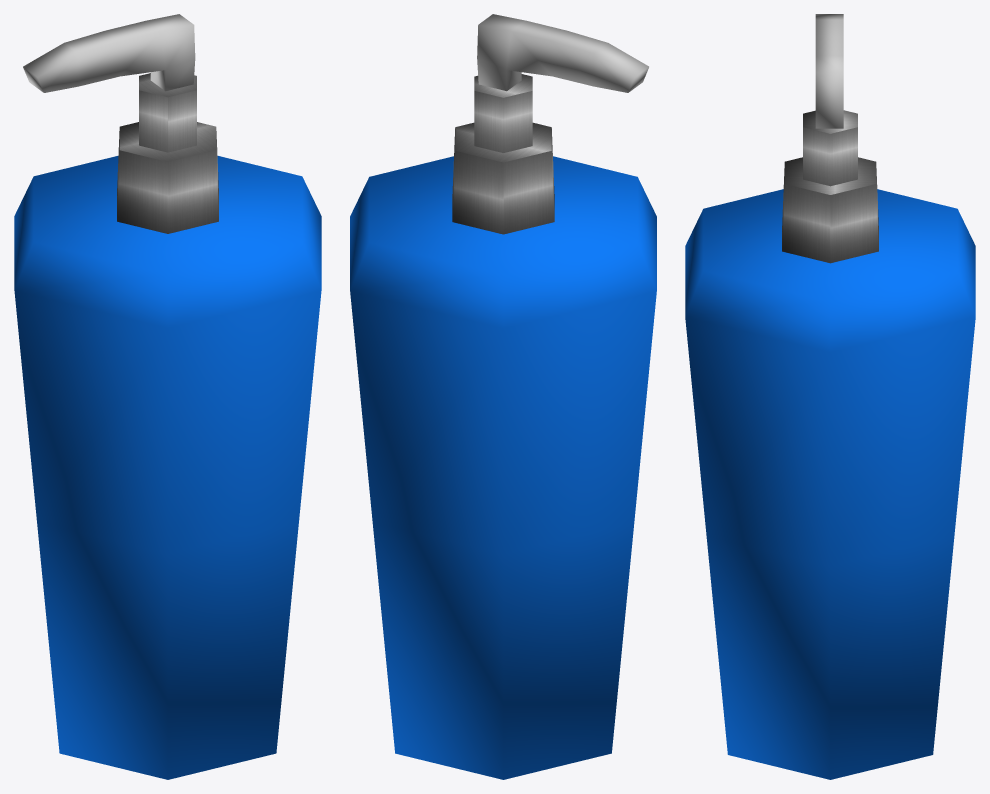
Rendered from Soap_Dispenser_H.FBX.
The picture shows the model from 3 angles, left to right: view 1: azimuth 30°, elevation 25°; view 2: azimuth 150°, elevation 25°; view 3: azimuth 270°, elevation 25°; orthographic projection. The views are drawn at different scales.
Parts seen in each view (by area): view 1: Soap_Dispenser; view 2: Soap_Dispenser; view 3: Soap_Dispenser.
Part boxes in pixels (x1,y1,x2,y2): Soap_Dispenser: (14,14,321,779); Soap_Dispenser: (350,14,656,779); Soap_Dispenser: (685,14,975,779).
Size of the model in its own units: 18.48 by 40.55 by 16.01.
